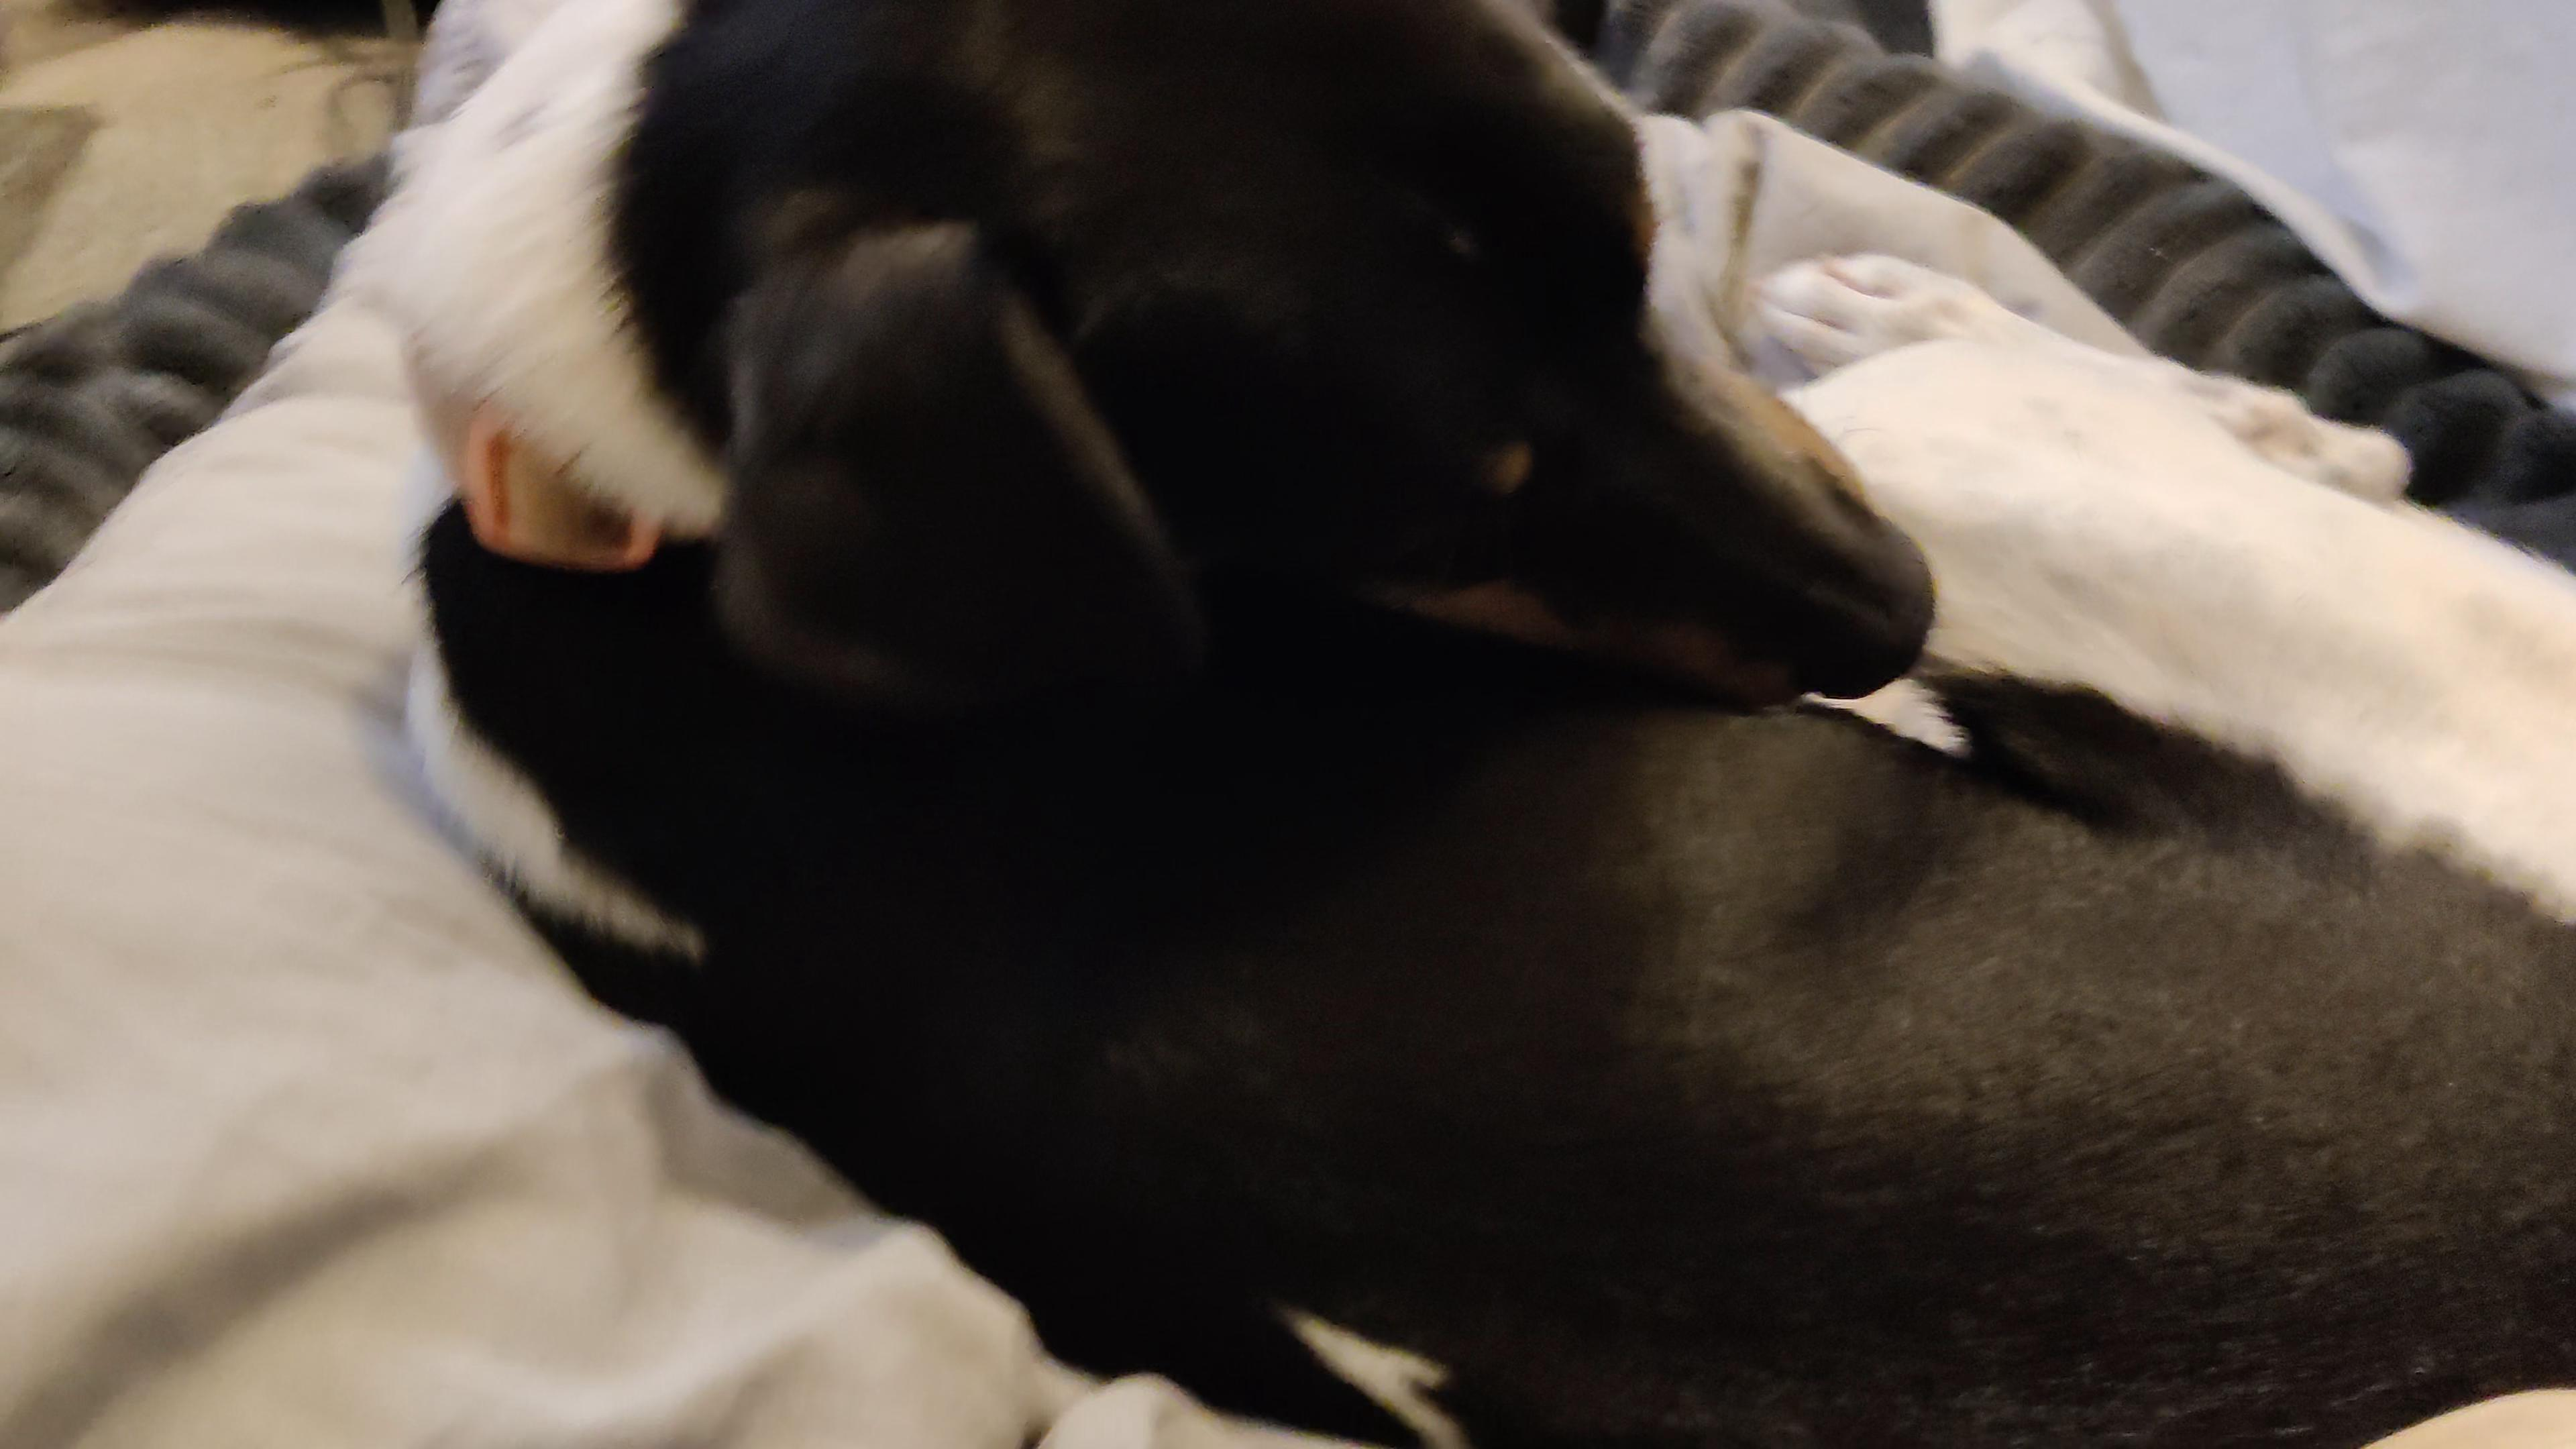Dog: (363, 0, 2576, 1449)
